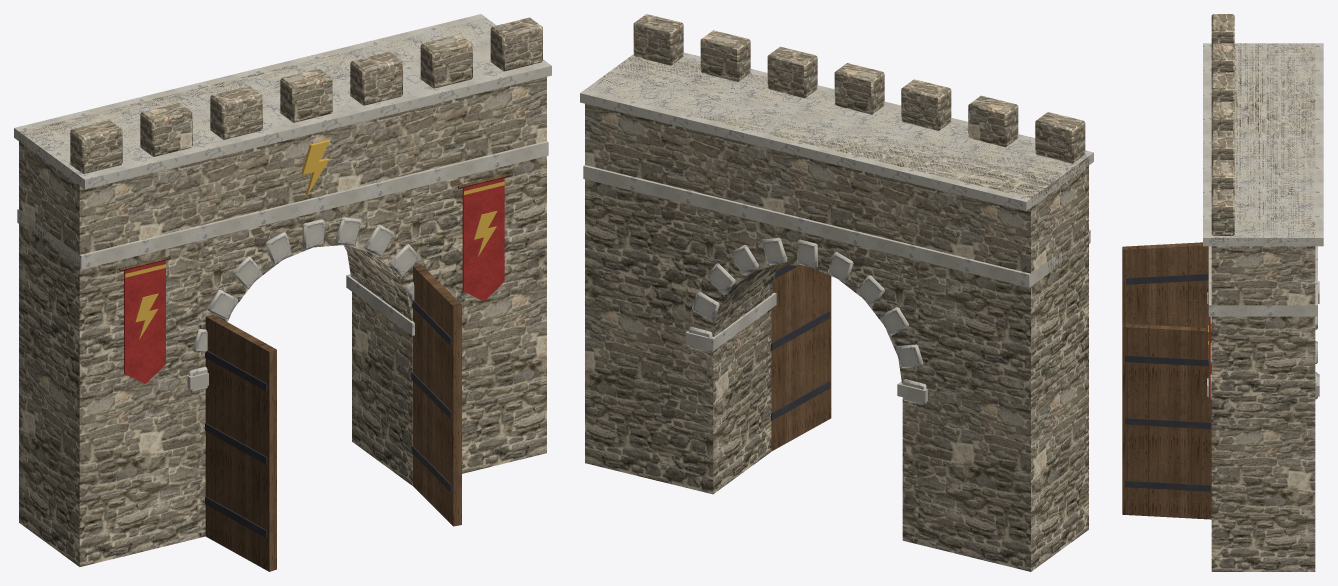
The model's file is infra_wall-gate.glb.
The picture shows the model from 3 angles, left to right: view 1: azimuth 30°, elevation 25°; view 2: azimuth 150°, elevation 25°; view 3: azimuth 270°, elevation 25°; orthographic projection. The views are drawn at different scales.
Visible parts, largest first — view 1: stone, step, wood_dark, cloth_red, marble, iron, gold; view 2: stone, step, wood_dark, marble, iron; view 3: stone, wood_dark, step, iron, marble.
Part boxes in pixels (bbox=[...]): stone: bbox=[19, 17, 546, 566]; step: bbox=[14, 14, 551, 269]; wood_dark: bbox=[119, 173, 509, 571]; cloth_red: bbox=[124, 178, 504, 383]; marble: bbox=[187, 217, 419, 392]; iron: bbox=[205, 300, 451, 537]; gold: bbox=[124, 140, 504, 339]; stone: bbox=[585, 14, 1088, 571]; step: bbox=[580, 52, 1093, 287]; wood_dark: bbox=[771, 264, 831, 451]; marble: bbox=[685, 238, 927, 405]; iron: bbox=[771, 265, 830, 420]; stone: bbox=[1211, 14, 1315, 571]; wood_dark: bbox=[1122, 242, 1211, 519]; step: bbox=[1203, 43, 1323, 316]; iron: bbox=[1125, 273, 1210, 491]; marble: bbox=[1207, 281, 1319, 399].
Size of the model in its own units: 8 by 7 by 3.5.
7 materials, 6 textured.
